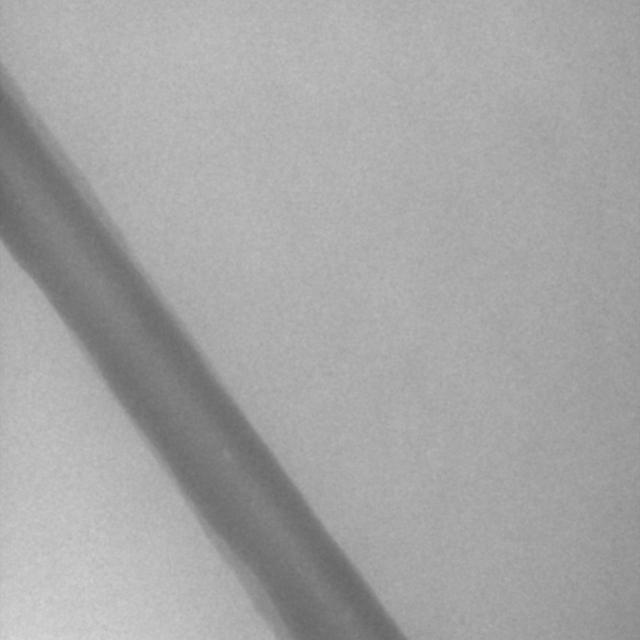air hole: (220, 447, 233, 463)
